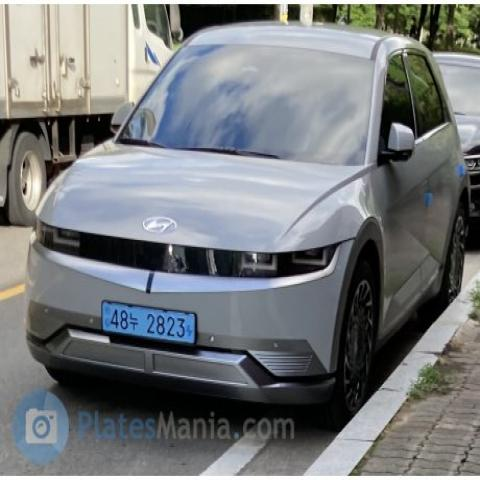LP: (94, 292, 204, 352)
